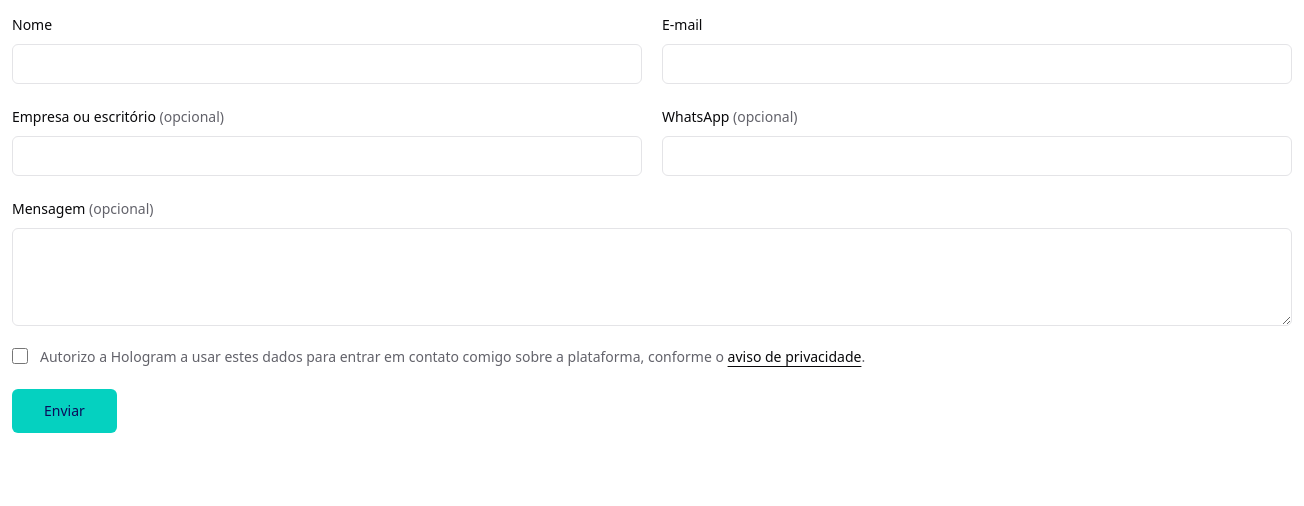
Test: ContactForm › campos obrigatórios vazios mostram o erro ligado ao campo
Click the button "Enviar": (64, 411) top-left (12, 389), bottom-right (117, 433)
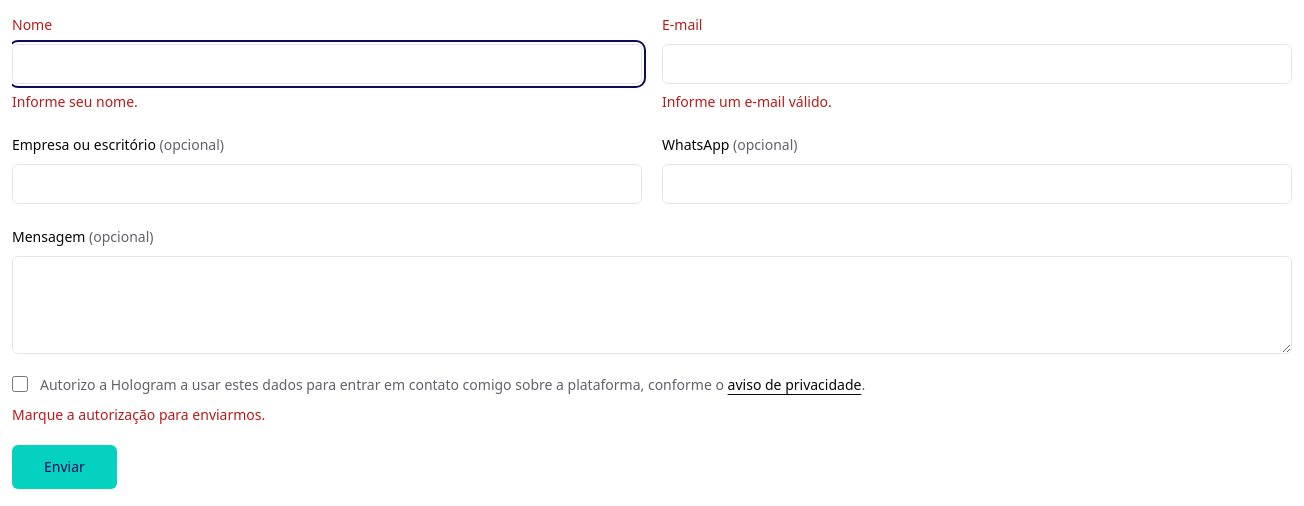
Expected: the text "Informe seu nome." is shown, top-left (12, 92), bottom-right (138, 111)
